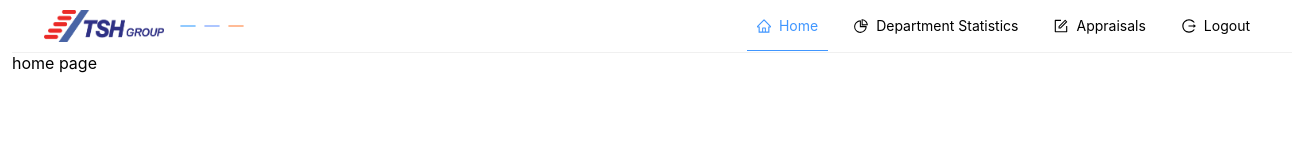
Test case: Navbar › routes correctly
The image size is (1292, 160).
Expected: the text "home page" is shown, top-left (12, 52), bottom-right (97, 72)
// click on /statistics
Click the link "Department Statistics" at (936, 26), box top-left (854, 17), bottom-right (1018, 34)
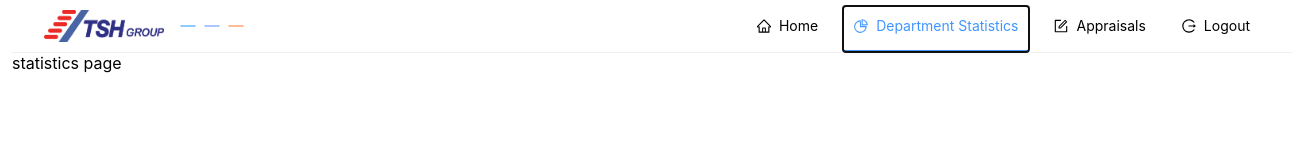
Expected: the text "statistics page" is shown, top-left (12, 52), bottom-right (122, 72)
// click on /dashboard
Click the link "Appraisals" at (1100, 26), box top-left (1054, 17), bottom-right (1146, 34)
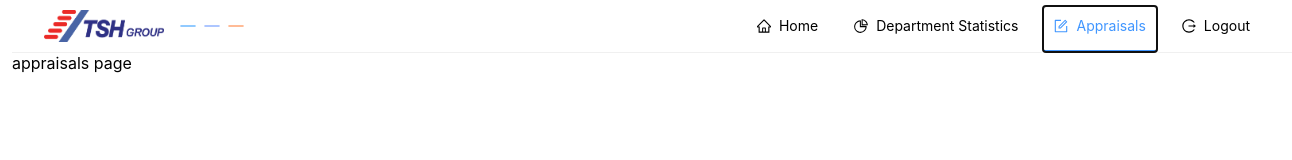
Expected: the text "appraisals page" is shown, top-left (12, 52), bottom-right (132, 72)
// click on /home
Click the link "Home" at (788, 26), box top-left (757, 17), bottom-right (818, 34)
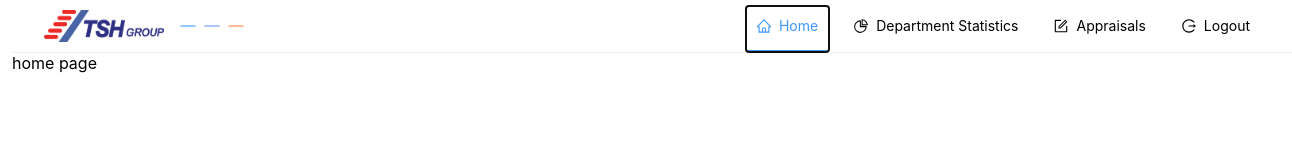
Expected: the text "home page" is shown, top-left (12, 52), bottom-right (97, 72)
